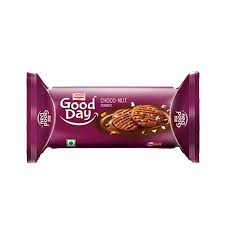gooday-small-choco: (33, 86, 188, 147)
